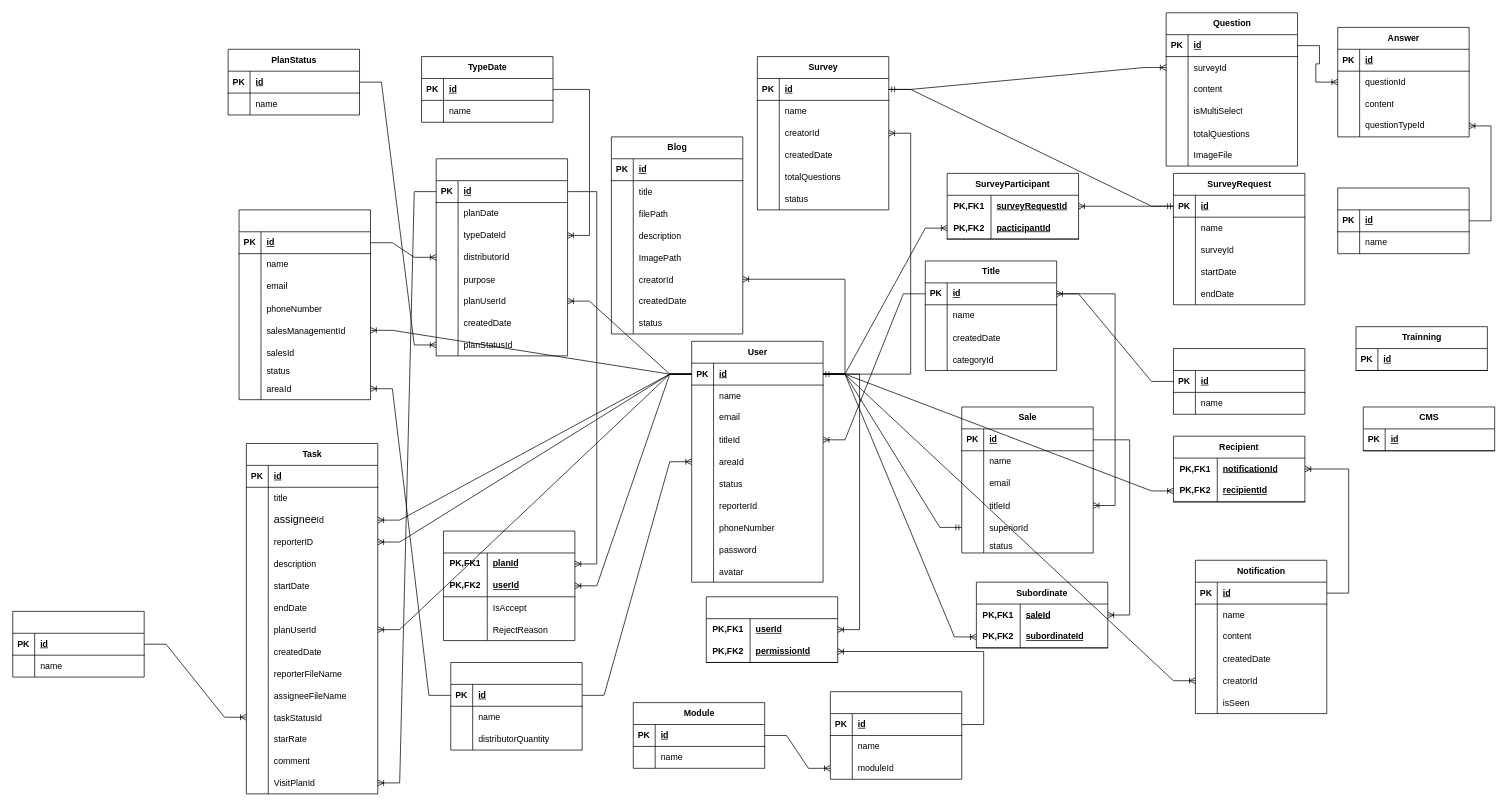
The diagram is 1510 pixels wide and 807 high, and some of its shapes have lost their labels. Each missing label, with the box of its shape:
Area: (450, 662, 582, 750)
Category: (1173, 348, 1305, 414)
Distributor: (238, 209, 370, 400)
Guest: (443, 530, 575, 641)
Permission: (830, 691, 962, 779)
QuestionType: (1337, 187, 1469, 254)
TaskStatus: (12, 611, 144, 677)
User_Permission: (706, 596, 838, 662)
VisitPlan: (435, 158, 568, 356)
